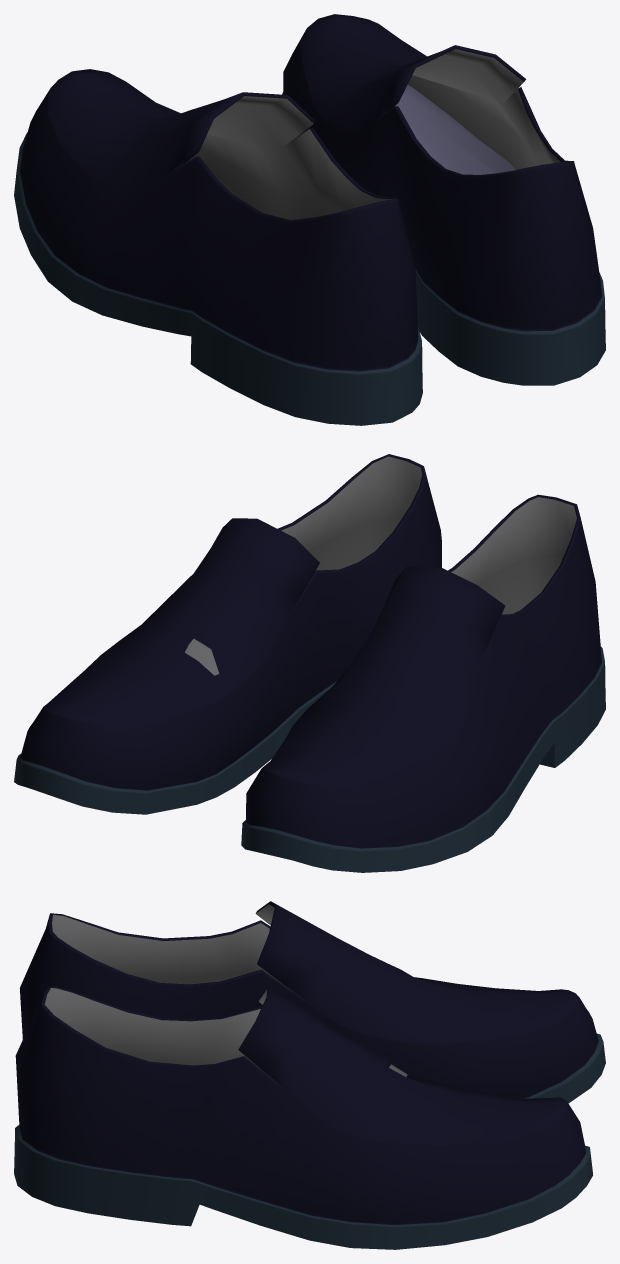
Rendered from Zapatos_Azules.fbx.
The picture shows the model from 3 angles, top to bottom: view 1: azimuth 30°, elevation 25°; view 2: azimuth 150°, elevation 25°; view 3: azimuth 270°, elevation 25°; orthographic projection. The views are drawn at different scales.
Parts seen in each view (by area): view 1: Zapatos; view 2: Zapatos; view 3: Zapatos.
Part boxes in pixels (left/top/right/bottom): Zapatos: left=14, top=14, right=605, bottom=425; Zapatos: left=14, top=454, right=605, bottom=872; Zapatos: left=14, top=901, right=605, bottom=1249.
Bounding box in the file's own units: 2219 × 1048 × 2830.
